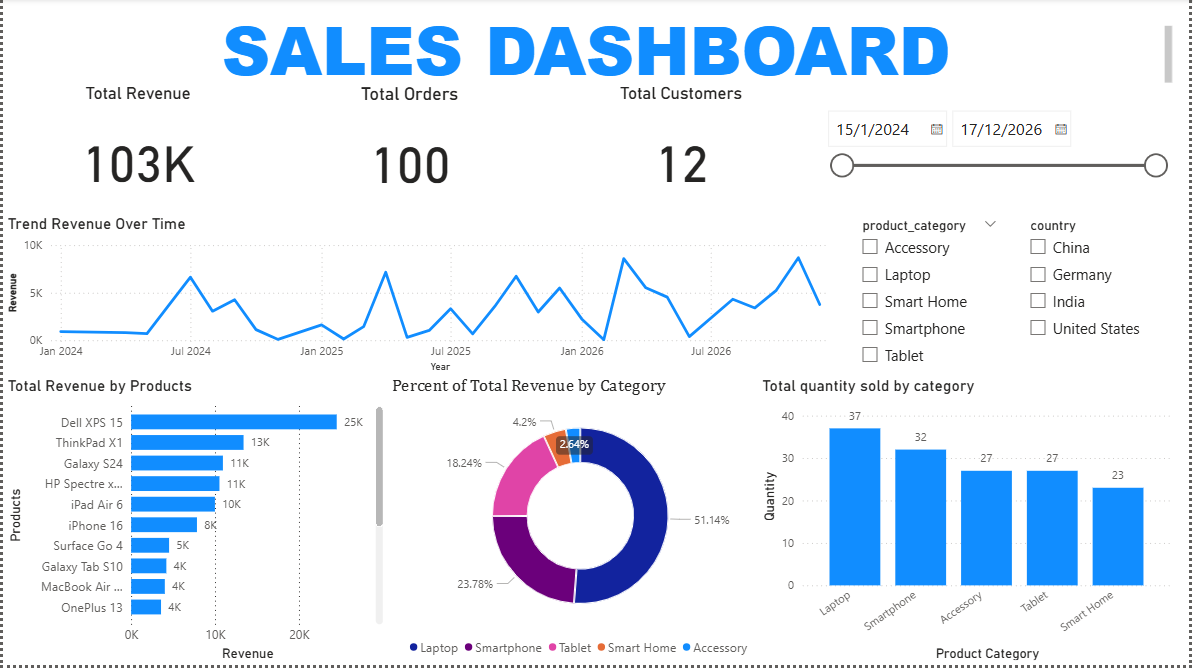

The page's visual inventory and layout, read from the dashboard file:
{"tool":"powerbi","page":{"name":"Page 1","canvas":[1280,720],"ordinal":0},"visuals":[{"type":"textbox","box":[0,0,1266.7,101.7],"z":0},{"type":"barChart","title":"Total Revenue by Products","fields":{"Category":["orders.product_name"],"Y":["Sum(orders.sales)"]},"box":[0,408.3,415,311.7],"z":1000},{"type":"donutChart","title":"Percent of Total Revenue by Category ","fields":{"Category":["orders.product_category"],"Y":["Sum(orders.sales)"]},"box":[415,408.3,416.7,311.7],"z":2000},{"type":"card","title":"Total Orders","fields":{"Values":["CountNonNull(orders.order_id)"]},"box":[291.7,91.7,295,140],"z":3000},{"type":"card","title":"Total Customers","fields":{"Values":["Count(orders.customer_id)"]},"box":[586.2,92.3,291.5,140.9],"z":4000},{"type":"card","title":"Total Revenue","fields":{"Values":["Sum(orders.sales)"]},"box":[0,92.3,291.5,140.9],"z":5000},{"type":"lineChart","title":"Trend Revenue Over Time","fields":{"Y":["Sum(orders.sales)"],"Category":["orders.order_date.Variation.Date Hierarchy.Year","orders.order_date.Variation.Date Hierarchy.Quarter","orders.order_date.Variation.Date Hierarchy.Month"]},"box":[0,233.3,908.3,175],"z":6000},{"type":"slicer","fields":{"Values":["customers.country"]},"box":[1096.7,231.7,170,176.7],"z":7000},{"type":"slicer","fields":{"Values":["orders.product_category"]},"box":[915,231.7,170,176.7],"z":8000},{"type":"slicer","fields":{"Values":["orders.order_date"]},"box":[878.3,111.7,388.3,98.3],"z":9000},{"type":"columnChart","title":"Total quantity sold by category","fields":{"Y":["Sum(orders.quantity)"],"Category":["orders.product_category"]},"box":[815,408.3,451.7,311.7],"z":10000}]}

Visuals, with their boxes in screenshot pixels (x1, y1, x2, y2), scaled from the page's 1280x720 canvas onto the 1193x670 screenshot:
textbox: x1=0 y1=0 x2=1181 y2=95
"Total Revenue by Products" barChart: x1=0 y1=380 x2=387 y2=669
"Percent of Total Revenue by Category " donutChart: x1=387 y1=380 x2=775 y2=669
"Total Orders" card: x1=272 y1=85 x2=547 y2=216
"Total Customers" card: x1=546 y1=86 x2=818 y2=217
"Total Revenue" card: x1=0 y1=86 x2=272 y2=217
"Trend Revenue Over Time" lineChart: x1=0 y1=217 x2=847 y2=380
slicer - customers.country: x1=1022 y1=216 x2=1181 y2=380
slicer - orders.product_category: x1=853 y1=216 x2=1011 y2=380
slicer - orders.order_date: x1=819 y1=104 x2=1181 y2=195
"Total quantity sold by category" columnChart: x1=760 y1=380 x2=1181 y2=669
